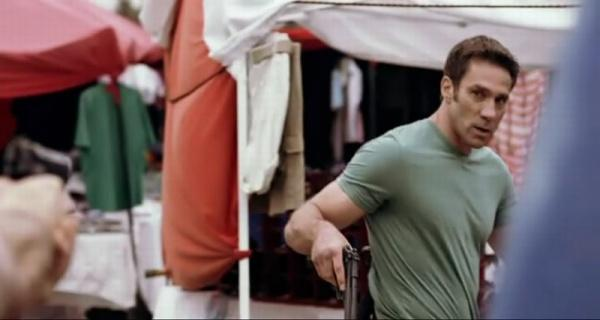Gun: (337, 245, 364, 320)
